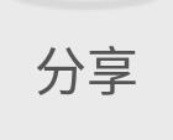TextView: (1, 1, 172, 139)
